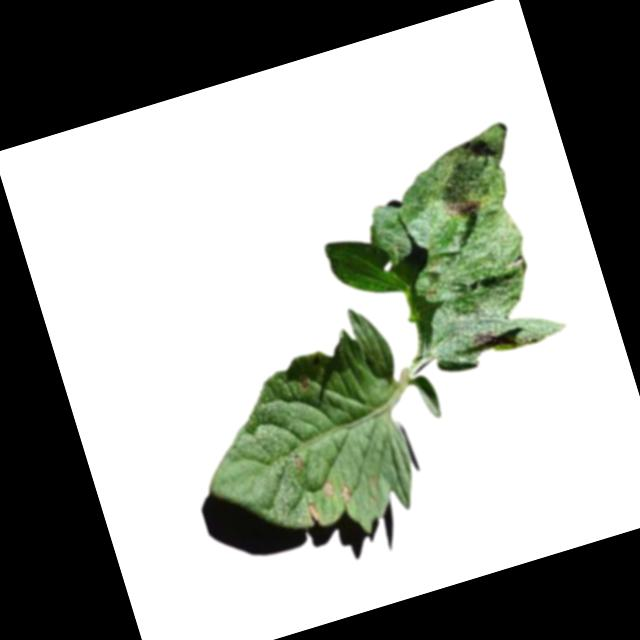Early_blight: (442, 187, 491, 221), (302, 498, 323, 526), (471, 325, 498, 345), (337, 481, 356, 504), (319, 478, 337, 499), (290, 451, 305, 470)
